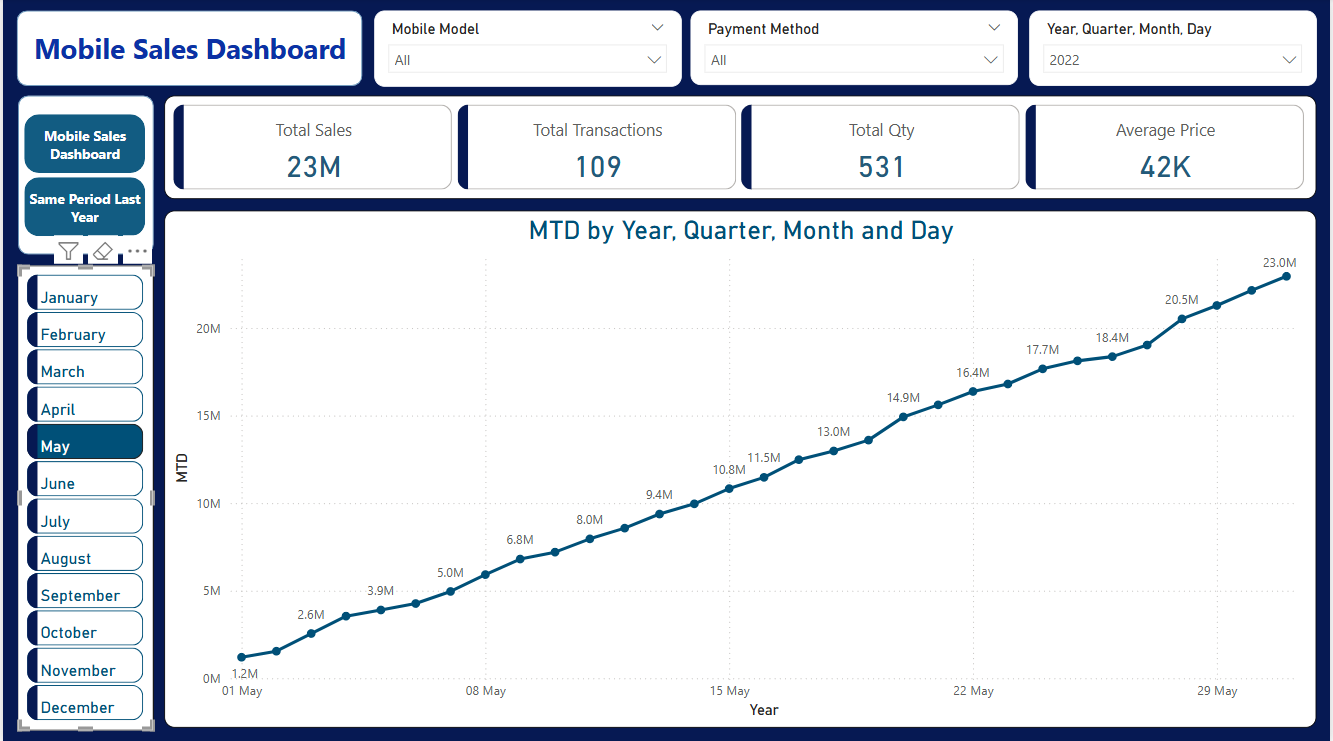

The dashboard page shown, as its layout file describes it:
{"tool":"powerbi","page":{"name":"Month to Date","canvas":[1280,720],"ordinal":1},"visuals":[{"type":"group","id":"g1","title":"Group 1","box":[13.3,12.1,334.2,73.6],"z":0},{"type":"shape","box":[13.3,12.1,333.8,73.2],"z":0,"group":"g1"},{"type":"shape","box":[14.3,94,131,153.6],"z":1000},{"type":"cardVisual","fields":{"Data":["Mobile Sales Data.Total Sales","Mobile Sales Data.Total Transactions","Mobile Sales Data.Total Qty","Mobile Sales Data.Average Price"]},"box":[156,94,1111.9,100],"z":2000},{"type":"slicer","fields":{"Values":["Custom Calender.Date.Variation.Date Hierarchy.Year","Custom Calender.Date.Variation.Date Hierarchy.Quarter","Custom Calender.Date.Variation.Date Hierarchy.Month","Custom Calender.Date.Variation.Date Hierarchy.Day"]},"box":[990.5,11.9,277.4,72.6],"z":3000},{"type":"slicer","fields":{"Values":["Mobile Sales Data.Payment Method"]},"box":[663.5,12.1,316.1,72.4],"z":4000},{"type":"slicer","fields":{"Values":["Mobile Sales Data.Mobile Model"]},"box":[358.3,11.9,296.4,73.8],"z":5000},{"type":"textbox","box":[20.3,25.7,320.1,45.9],"z":6000},{"type":"lineChart","fields":{"Y":["Mobile Sales Data.MTD"],"Category":["Custom Calender.Date.Variation.Date Hierarchy.Year","Custom Calender.Date.Variation.Date Hierarchy.Quarter","Custom Calender.Date.Variation.Date Hierarchy.Month","Custom Calender.Date.Variation.Date Hierarchy.Day"]},"box":[155.6,205.1,1112.3,499.5],"z":7000},{"type":"pageNavigator","box":[20.5,112.2,117,118.2],"z":9000},{"type":"advancedSlicerVisual","fields":{"Values":["Custom Calender.Date.Variation.Date Hierarchy.Month"]},"box":[14.3,258.3,131,448.8],"z":9001}]}

Visuals, with their boxes in screenshot pixels (x1, y1, x2, y2), scaled from the page's 1280x720 canvas onto the 1333x741 screenshot:
"Group 1" group: locate(14, 12, 362, 88)
shape: locate(14, 12, 361, 88)
shape: locate(15, 97, 151, 255)
cardVisual - Mobile Sales Data.Total Sales x Mobile Sales Data.Total Transactions: locate(162, 97, 1320, 200)
slicer - Custom Calender.Date.Variation.Date Hierarchy.Year x Custom Calender.Date.Variation.Date Hierarchy.Quarter: locate(1032, 12, 1320, 87)
slicer - Mobile Sales Data.Payment Method: locate(691, 12, 1020, 87)
slicer - Mobile Sales Data.Mobile Model: locate(373, 12, 682, 88)
textbox: locate(21, 26, 354, 74)
lineChart - Mobile Sales Data.MTD x Custom Calender.Date.Variation.Date Hierarchy.Year: locate(162, 211, 1320, 725)
pageNavigator: locate(21, 115, 143, 237)
advancedSlicerVisual - Custom Calender.Date.Variation.Date Hierarchy.Month: locate(15, 266, 151, 728)
